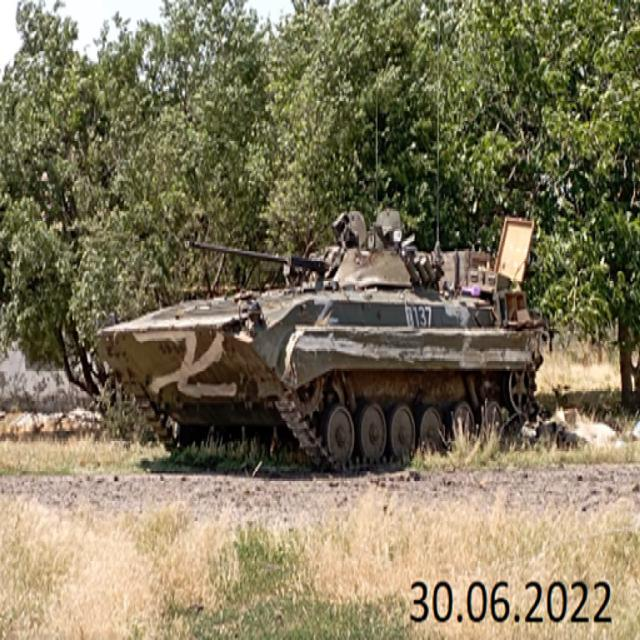APC-IFV: (94, 187, 551, 476)
